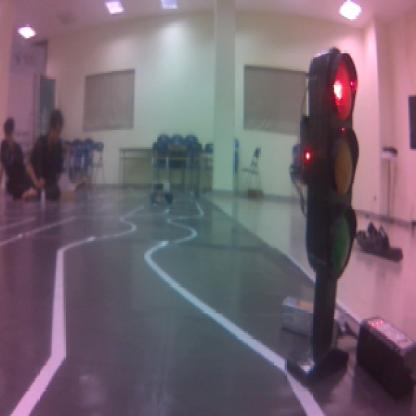building map: (334, 64, 352, 120)
